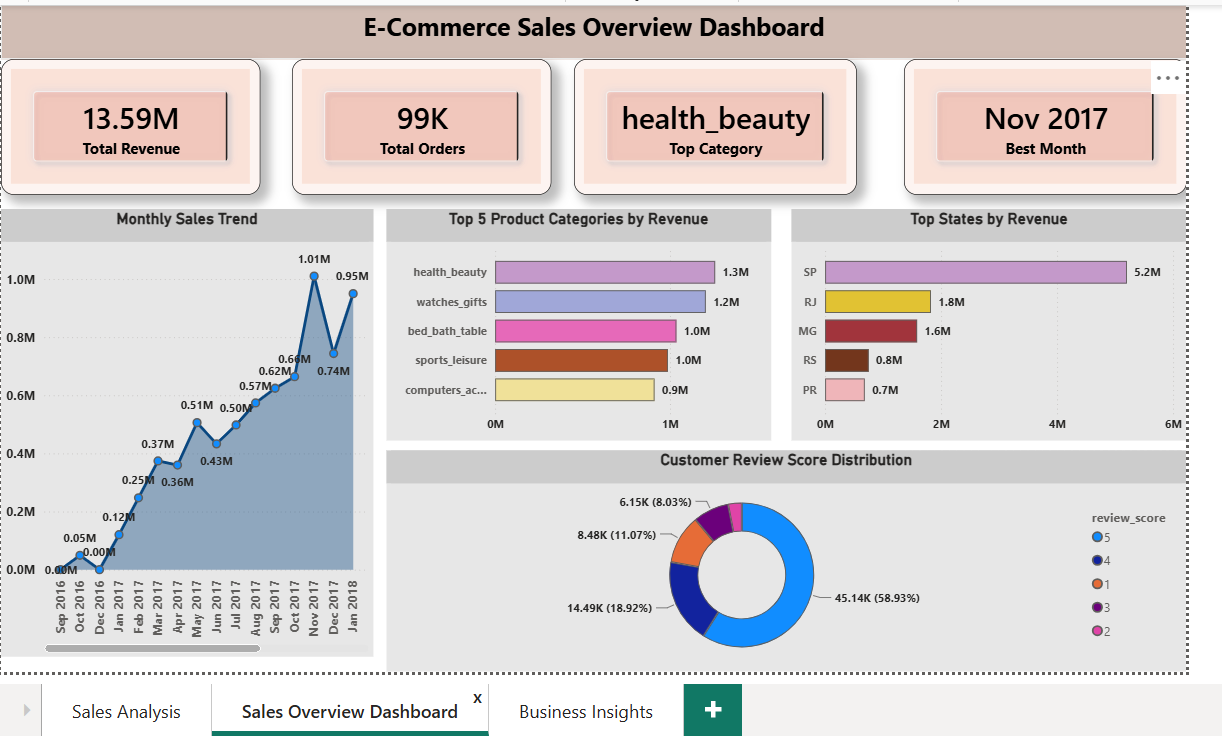

The page's visual inventory and layout, read from the dashboard file:
{"tool":"powerbi","page":{"name":"Sales Overview  Dashboard","canvas":[1280,720],"ordinal":1},"visuals":[{"type":"cardVisual","fields":{"Data":["measures (3).Total Revenue"]},"box":[0,58.3,280,146.7],"z":0},{"type":"cardVisual","fields":{"Data":["measures (3).Total Orders"]},"box":[313.3,58.3,280,146.7],"z":1000},{"type":"cardVisual","fields":{"Data":["measures (3).Top Category"]},"box":[618.3,58.3,305,146.7],"z":2000},{"type":"cardVisual","fields":{"Data":["measures (3).Best Month"]},"box":[975,58.3,305,146.7],"z":3000},{"type":"textbox","box":[0,279.5,280,163],"z":4000},{"type":"textbox","box":[0,0,1280,58.3],"z":5000},{"type":"lineChart","title":"Monthly Sales Trend","fields":{"Category":["clean_olist_order_dataset.Month Year"],"Y":["measures (3).Total Revenue"]},"box":[0,220,401.7,483.3],"z":6000},{"type":"clusteredBarChart","title":"Top 5 Product Categories by Revenue","fields":{"Y":["measures (3).Total Revenue"],"Category":["clean_product_category_name_translation.product_category_name_english"]},"box":[416.7,220,415,250],"z":7000},{"type":"clusteredBarChart","title":"Top States by Revenue","fields":{"Y":["measures (3).Total Revenue"],"Category":["clean_olist_customers_dataset.customer_state"]},"box":[853.3,220,426.7,250],"z":8000},{"type":"donutChart","title":"Customer Review Score Distribution","fields":{"Category":["clean_olist_order_reviews_dataset (2).review_score"],"Y":["CountNonNull(clean_olist_order_reviews_dataset (2).review_score)"]},"box":[416.7,481.7,863.3,238.3],"z":9000}]}

Visuals, with their boxes on the page's 1280x720 design canvas (x1, y1, x2, y2). These are canvas units, not pixel positions in the 1222x736 screenshot, which may show the page scaled, cropped or inside an application window:
cardVisual - measures (3).Total Revenue: 0/58/280/205
cardVisual - measures (3).Total Orders: 313/58/593/205
cardVisual - measures (3).Top Category: 618/58/923/205
cardVisual - measures (3).Best Month: 975/58/1280/205
textbox: 0/280/280/442
textbox: 0/0/1280/58
"Monthly Sales Trend" lineChart: 0/220/402/703
"Top 5 Product Categories by Revenue" clusteredBarChart: 417/220/832/470
"Top States by Revenue" clusteredBarChart: 853/220/1280/470
"Customer Review Score Distribution" donutChart: 417/482/1280/720
